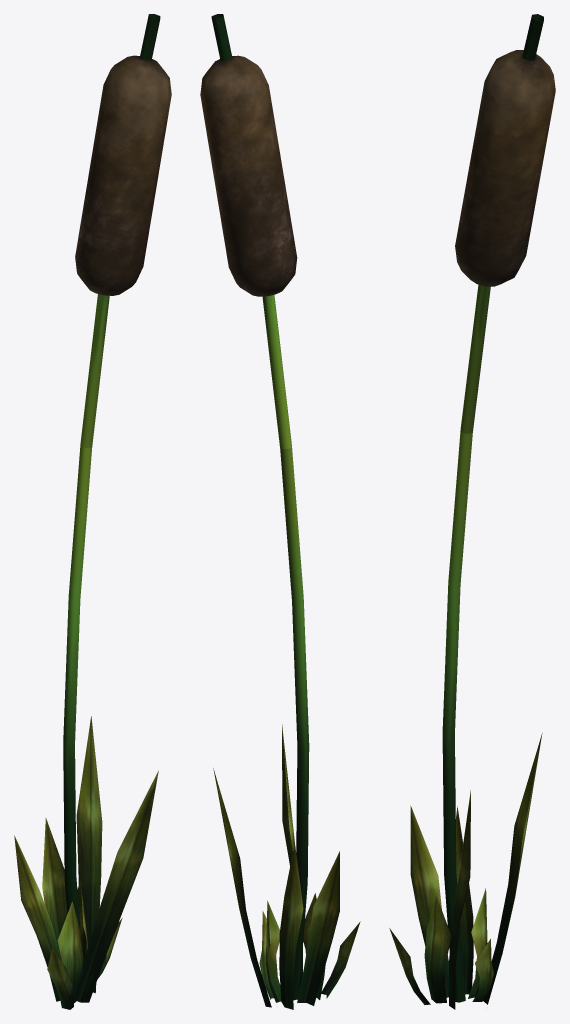
Rendered from Fenouille.FBX.
The picture shows the model from 3 angles, left to right: view 1: azimuth 30°, elevation 25°; view 2: azimuth 150°, elevation 25°; view 3: azimuth 330°, elevation 25°; orthographic projection. The views are drawn at different scales.
Visible parts, largest first — view 1: Fenouille_mesh; view 2: Fenouille_mesh; view 3: Fenouille_mesh.
Part boxes in pixels (x1,y1,x2,y2): Fenouille_mesh: (14, 14, 171, 1009); Fenouille_mesh: (200, 14, 360, 1009); Fenouille_mesh: (389, 14, 555, 1009).
Bounding box in the file's own units: 168 × 137 × 1079.
